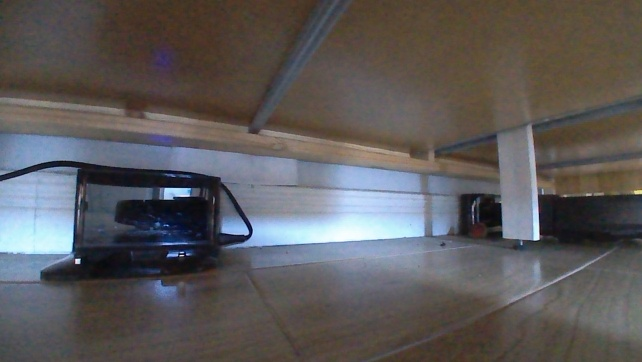charger: (36, 165, 225, 286)
wire: (0, 155, 115, 183), (216, 180, 256, 247)
